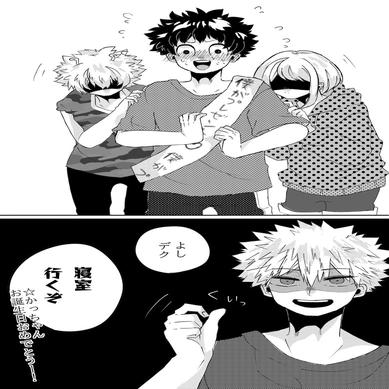bubble: (4, 238, 125, 340), (126, 221, 213, 278)
